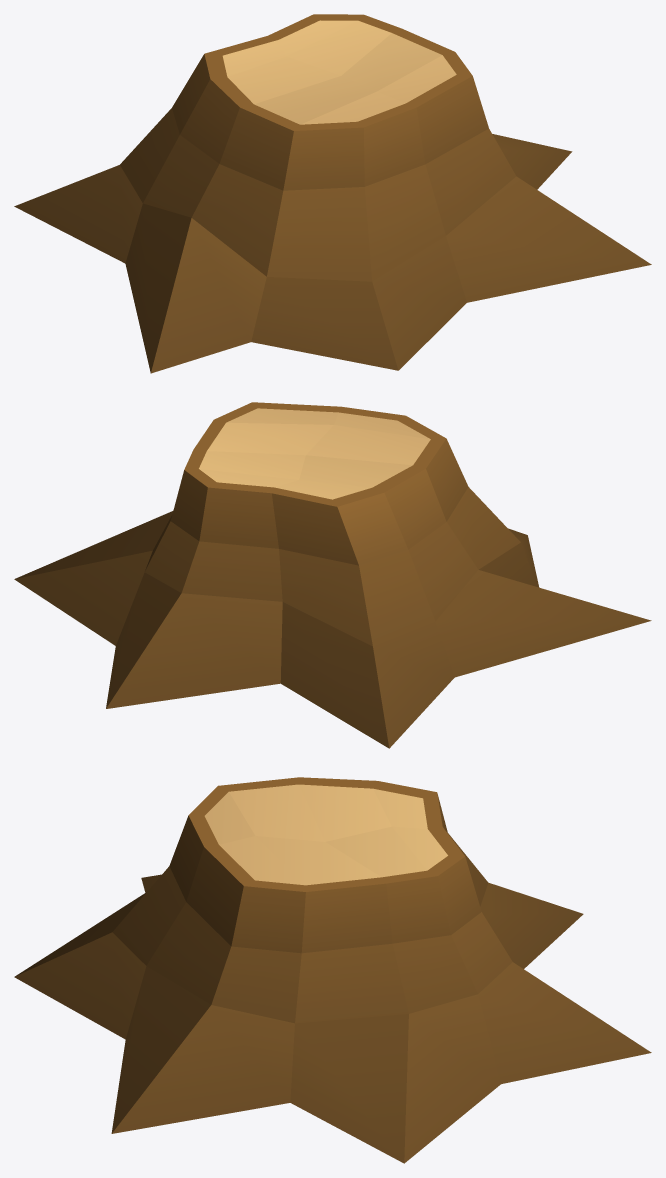
Rendered from TreeStump4.fbx.
3 views of the same model, one above another, from view 1: azimuth 30°, elevation 25°; view 2: azimuth 150°, elevation 25°; view 3: azimuth 270°, elevation 25° (orthographic). The views are drawn at different scales.
Parts seen in each view (by area): view 1: Stump_average_flat; view 2: Stump_average_flat; view 3: Stump_average_flat.
Part boxes in pixels (bbox=[...]): Stump_average_flat: bbox=[14, 14, 651, 373]; Stump_average_flat: bbox=[14, 402, 651, 748]; Stump_average_flat: bbox=[14, 777, 651, 1163].
Size of the model in its own units: 300 by 92.27 by 283.
1 material, 1 textured.
